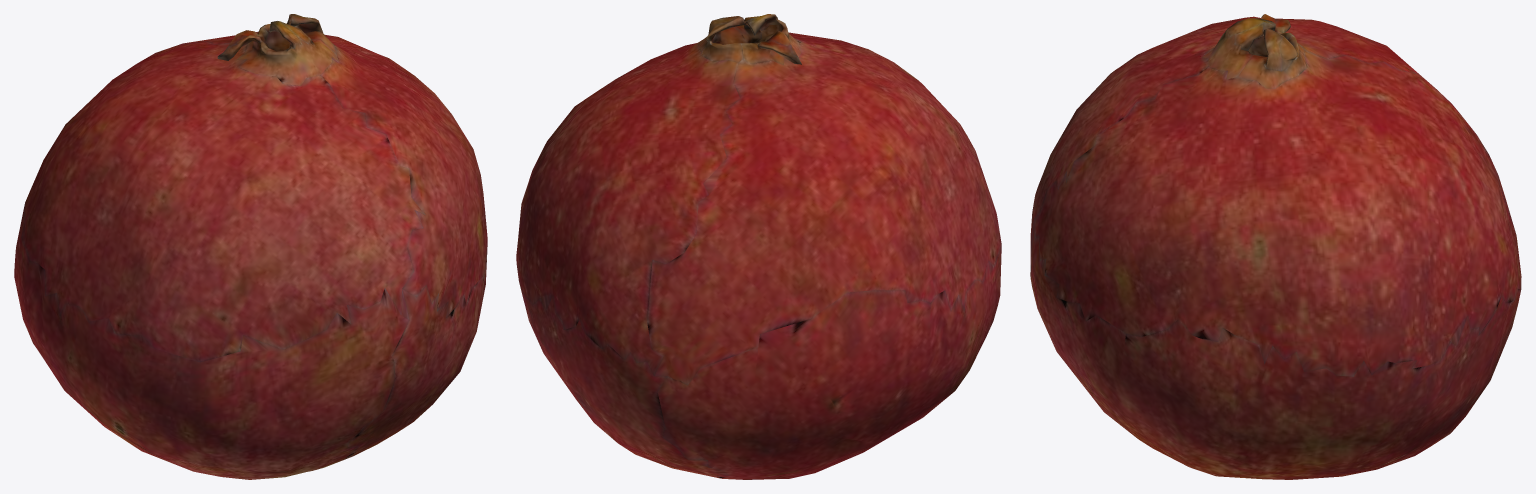
File: food_pomegranate_01.lod1.glb
3 renders of one model, left to right at view 1: azimuth 30°, elevation 25°; view 2: azimuth 150°, elevation 25°; view 3: azimuth 270°, elevation 25°, orthographic. The views are drawn at different scales.
Parts seen in each view (by area): view 1: food_pomegranate_01; view 2: food_pomegranate_01; view 3: food_pomegranate_01.
Part boxes in pixels (x1,y1,x2,y2): food_pomegranate_01: (14, 14, 487, 479); food_pomegranate_01: (516, 14, 1001, 479); food_pomegranate_01: (1030, 14, 1521, 479).
Bounding box in the file's own units: 0.1139 × 0.1148 × 0.115.
Materials: 1 (1 with a texture image).
